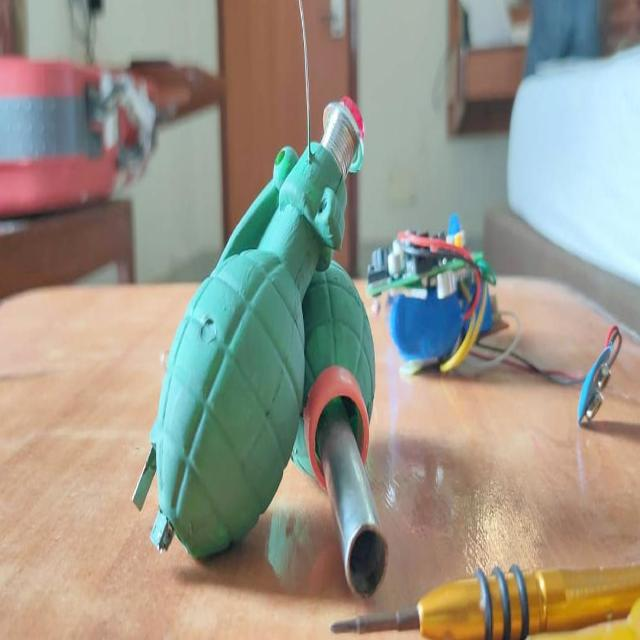grenade: (133, 95, 367, 562), (292, 262, 389, 602)
